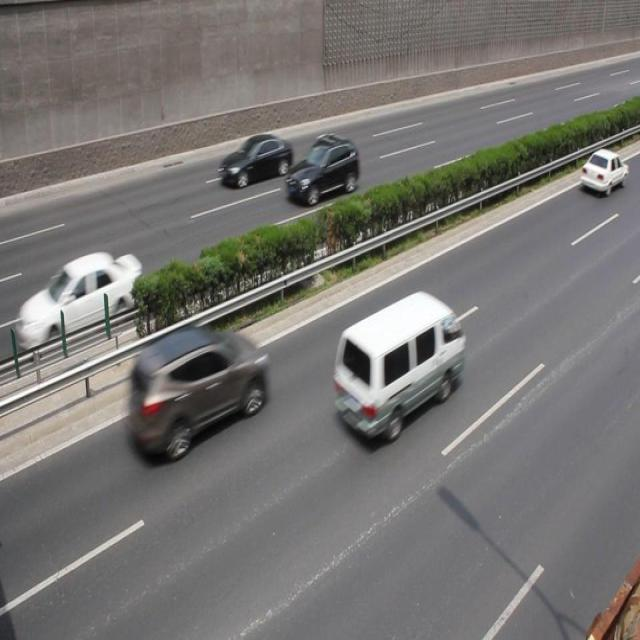car: (122, 327, 266, 460), (20, 250, 145, 360), (282, 132, 357, 206), (217, 133, 292, 187), (577, 147, 625, 196)
truck: (331, 288, 462, 442)
